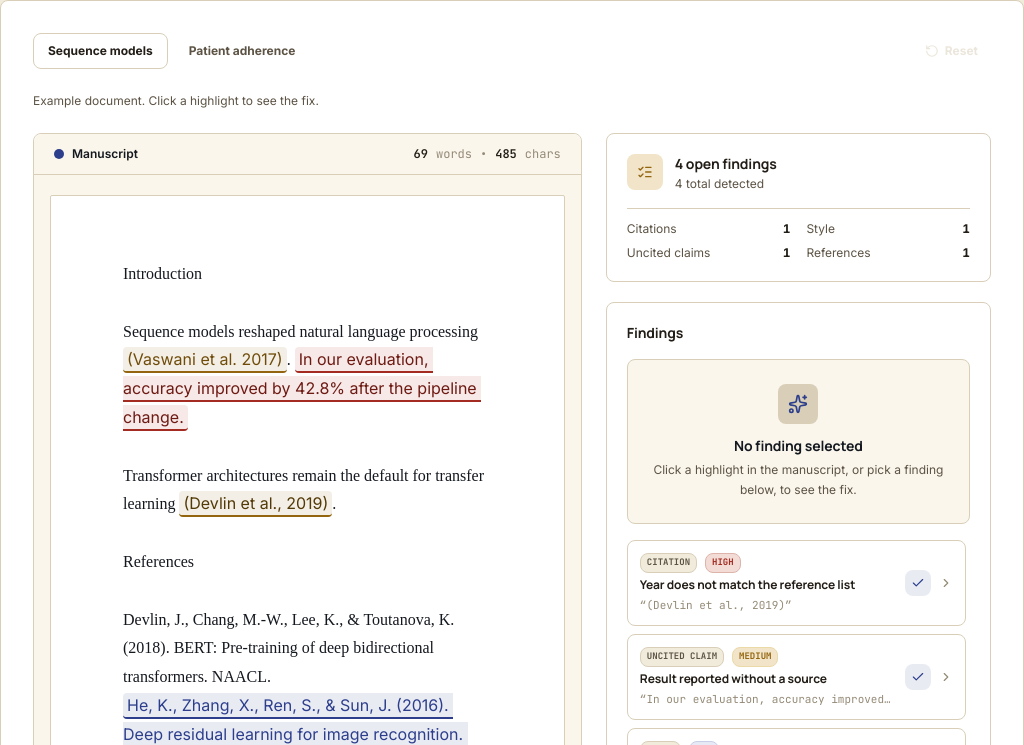
Test case: InteractiveDemoEditor (production-mirrored demo) › switches between worked examples
expect the button with test id "highlight-span-seq-citation" is shown: met, box left=179, top=491, right=332, bottom=517
Step 1. Click the tab with test id "demo-example-patient-adherence" → (242, 51), box left=174, top=33, right=310, bottom=69
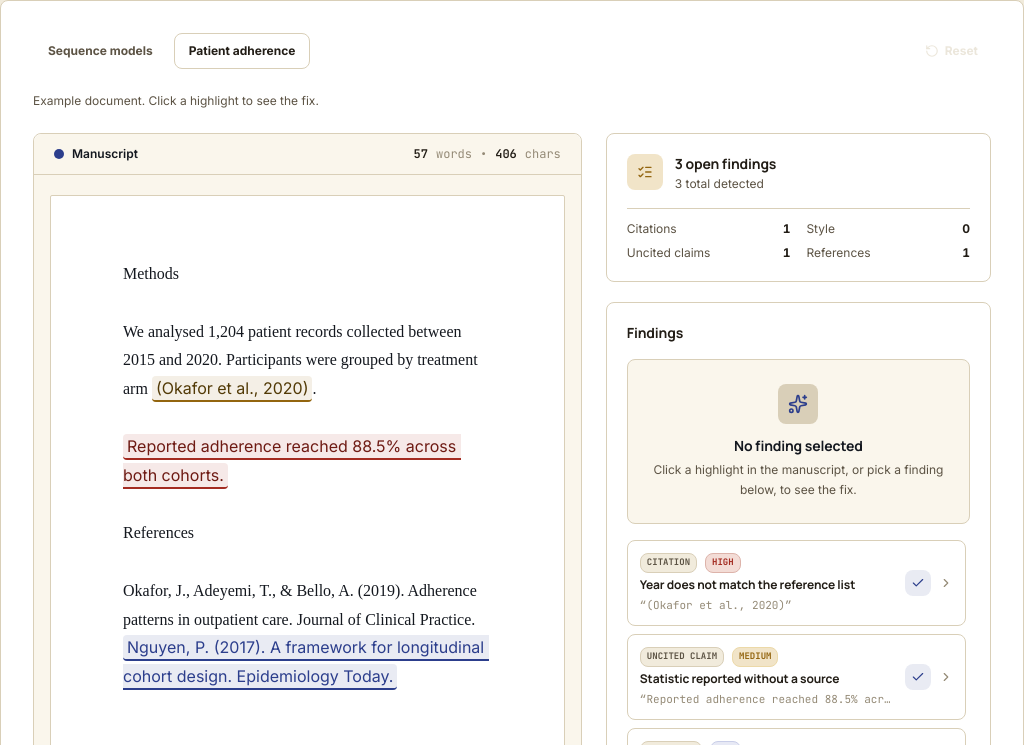
expect the button with test id "highlight-span-adh-citation" is shown: met, box left=152, top=376, right=312, bottom=402
expect the button with test id "highlight-span-seq-citation" is gone: met
